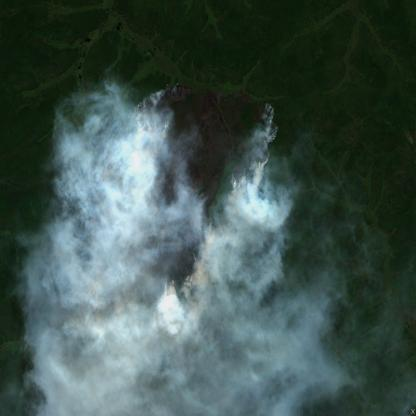fire: (78, 82, 283, 319)
